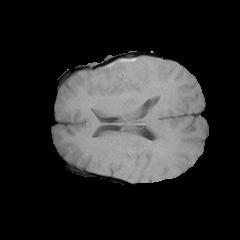glioma: (98, 58, 142, 93)
